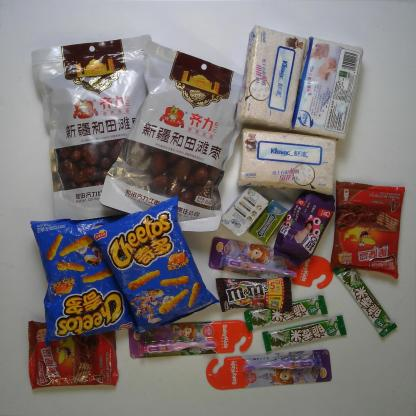Chocolate: (332, 263, 398, 339), (243, 294, 329, 333), (262, 314, 348, 353), (214, 275, 295, 313)
Dessert: (329, 179, 406, 280), (26, 318, 120, 390), (272, 188, 336, 270)
Dried Food: (98, 38, 248, 234), (31, 32, 154, 219)
Gum: (248, 198, 290, 245)
Milk: (219, 185, 270, 241)
Personal Hygiene: (206, 235, 334, 290), (205, 348, 333, 392), (127, 319, 253, 359)
Puffed Food: (85, 193, 222, 336), (28, 212, 138, 347)
Tissue: (289, 34, 365, 142), (234, 22, 307, 132), (235, 126, 339, 197)
